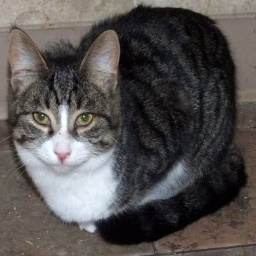cat: (9, 5, 255, 241)
